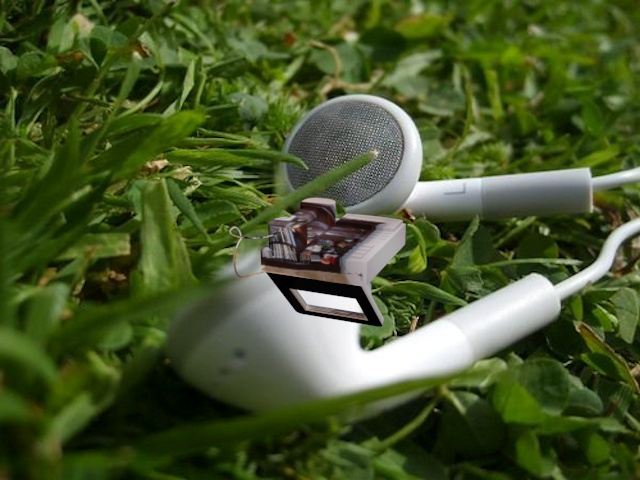phone: (224, 193, 416, 336)
